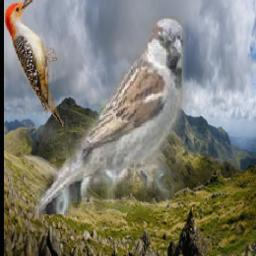Sparrow: (36, 16, 186, 214)
Woodpecker: (5, 0, 64, 127)
